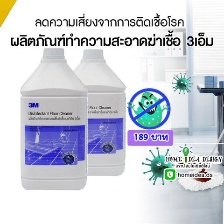cleaning_solution: (18, 45, 89, 192), (62, 46, 128, 180)
